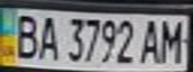2: (115, 16, 139, 65)
3: (63, 14, 84, 63)
7: (81, 15, 100, 63)
9: (96, 16, 121, 64)
A: (136, 17, 166, 65), (33, 12, 60, 61)
B: (6, 10, 42, 61)
M: (157, 16, 187, 64)
